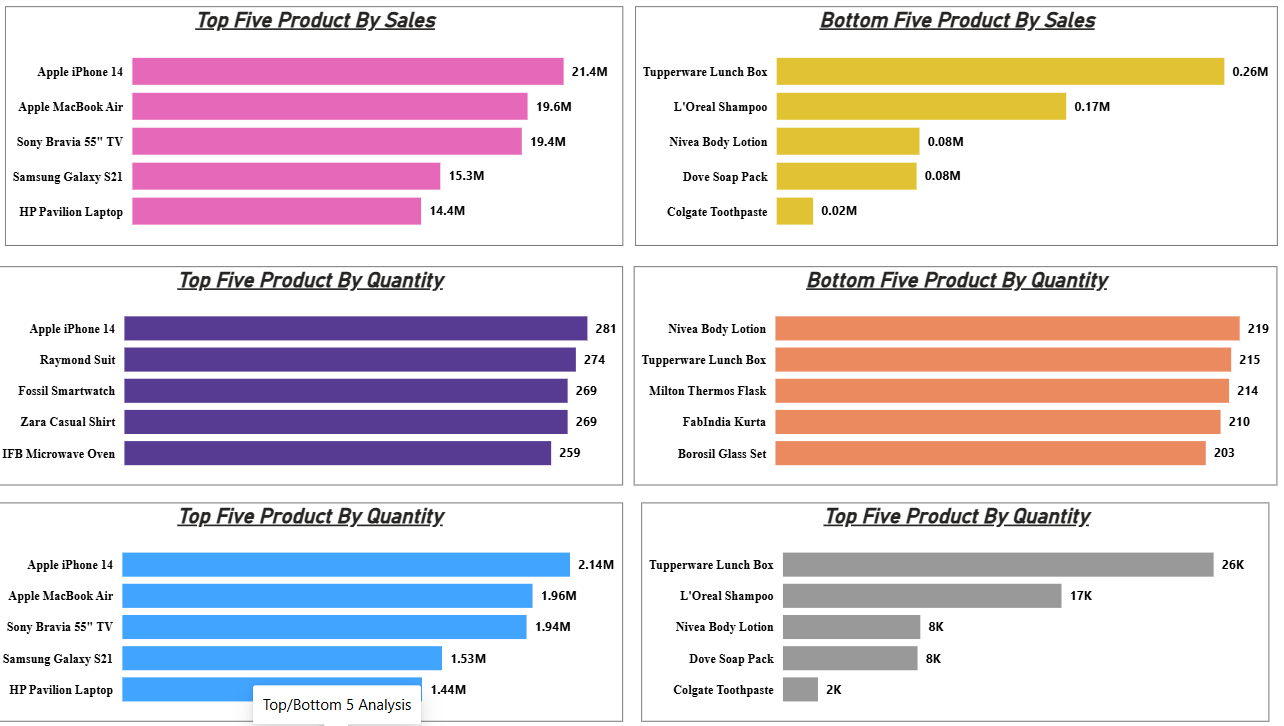

What the dashboard file says about the page in this screenshot:
{"tool":"powerbi","page":{"name":"Top/Bottom 5 Analysis","canvas":[1280,720],"ordinal":1},"visuals":[{"type":"barChart","title":"Top Five Product By Sales","fields":{"Category":["Dim Product.Product Name"],"Y":["Sum(Fact table.Net Sales )"]},"box":[9.6,11,605.1,234.6],"z":0},{"type":"barChart","title":"Bottom Five Product By Sales","fields":{"Category":["Dim Product.Product Name"],"Y":["Sum(Fact table.Net Sales )"]},"box":[625.7,11,628.5,234.6],"z":1000},{"type":"barChart","title":"Top Five Product By Quantity","fields":{"Category":["Dim Product.Product Name"],"Y":["Sum(Fact table.Units Sold)"]},"box":[0,264.8,614.8,214.1],"z":2000},{"type":"barChart","title":"Bottom Five Product By Quantity","fields":{"Category":["Dim Product.Product Name"],"Y":["Sum(Fact table.Units Sold)"]},"box":[624.4,264.8,629.8,214.1],"z":3000},{"type":"barChart","title":"Top Five Product By Quantity","fields":{"Category":["Dim Product.Product Name"],"Y":["Sum(Fact table.Profit)"]},"box":[0,496.7,614.8,214.1],"z":4000},{"type":"barChart","title":"Top Five Product By Quantity","fields":{"Category":["Dim Product.Product Name"],"Y":["Sum(Fact table.Profit)"]},"box":[632.6,496.7,614.8,214.1],"z":5000}]}

Visuals, with their boxes in screenshot pixels (x1, y1, x2, y2), scaled from the page's 1280x720 canvas onto the 1284x726 screenshot:
"Top Five Product By Sales" barChart: <region>10, 11, 617, 248</region>
"Bottom Five Product By Sales" barChart: <region>628, 11, 1258, 248</region>
"Top Five Product By Quantity" barChart: <region>0, 267, 617, 483</region>
"Bottom Five Product By Quantity" barChart: <region>626, 267, 1258, 483</region>
"Top Five Product By Quantity" barChart: <region>0, 501, 617, 717</region>
"Top Five Product By Quantity" barChart: <region>635, 501, 1251, 717</region>
